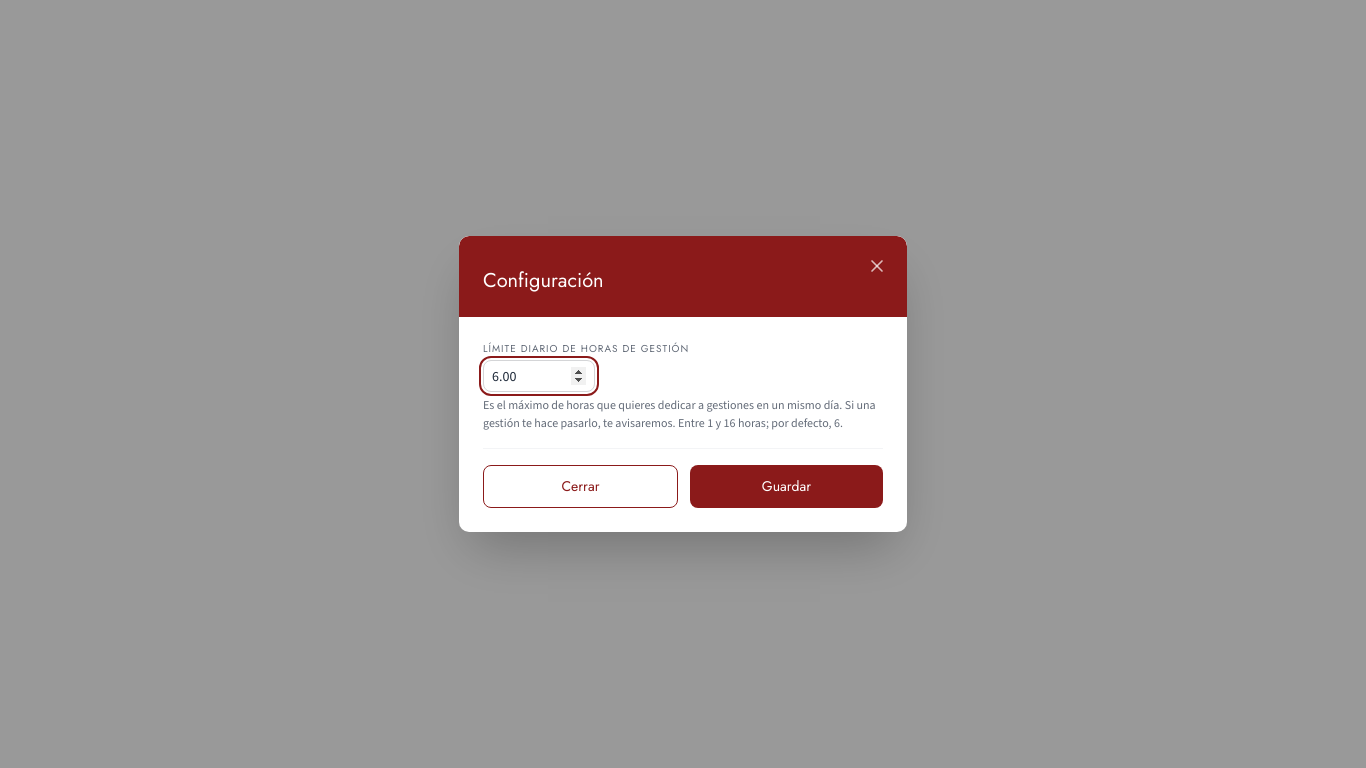
Test case: SettingsModal › un error del servidor muestra el banner con Reintentar
Expected: the number field labelled "Límite diario de horas de gestión" is shown, [483,360,595,392]
What coordinates should you click on to do the following:
click the button "Guardar"
I would click on:
 (786, 486)
Its box is [690,465,883,508].
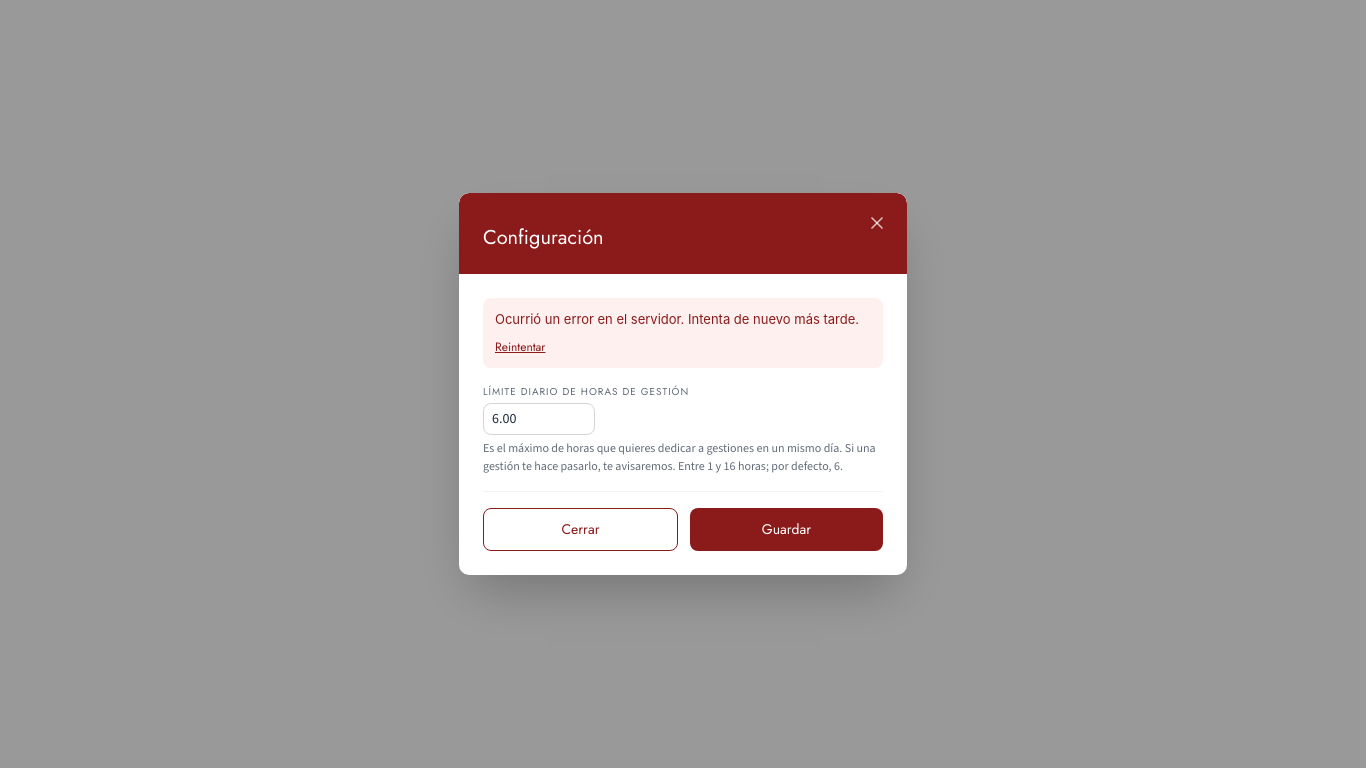
Expected: the button "Guardar" is enabled, [690,508,883,551]
Expected: the message shows "Ocurrió un error en el servidor", [495,311,859,327]
